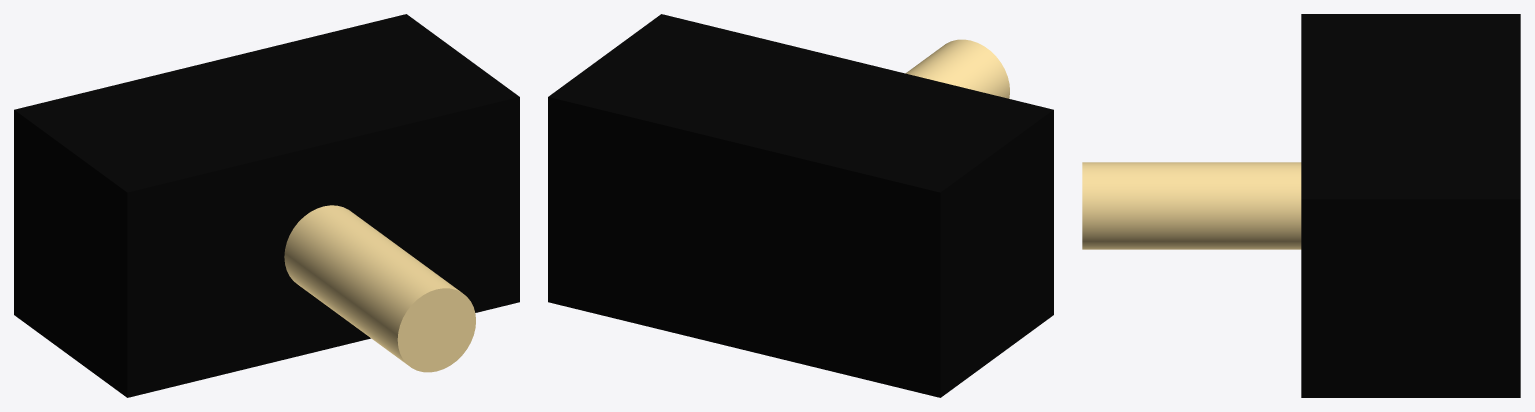
File: hammer.glb
The picture shows the model from 3 angles, left to right: view 1: azimuth 30°, elevation 25°; view 2: azimuth 150°, elevation 25°; view 3: azimuth 270°, elevation 25°; orthographic projection. The views are drawn at different scales.
Bounding box in the file's own units: 0.3 × 0.15 × 0.3.
